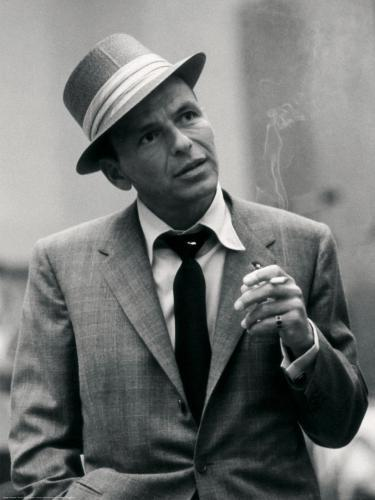cigarette: (264, 274, 292, 286)
